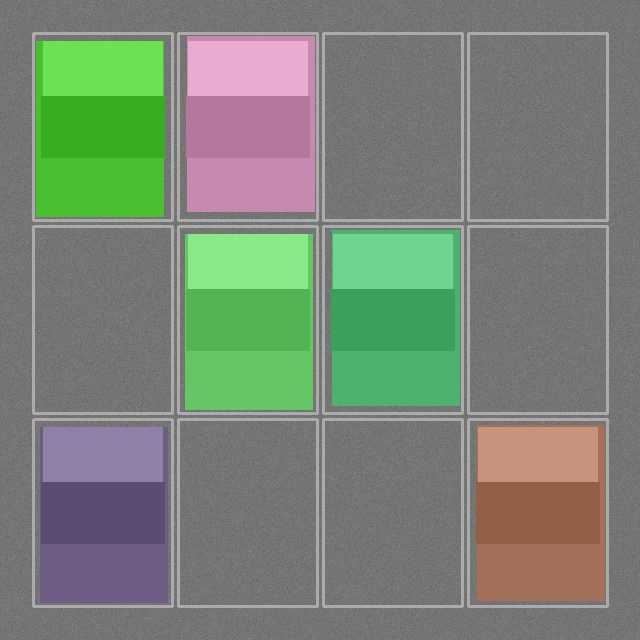space-empty: (325, 35, 460, 218), (470, 35, 605, 218), (35, 228, 170, 411), (470, 228, 605, 411), (180, 421, 315, 604), (325, 421, 460, 604)
space-occupied: (35, 35, 170, 218), (180, 35, 315, 218), (180, 228, 315, 411), (325, 228, 460, 411), (35, 421, 170, 604), (470, 421, 605, 604)
